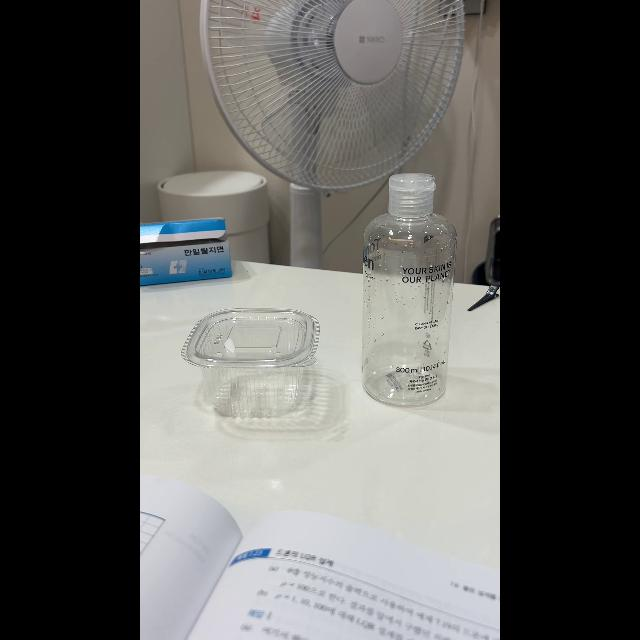clean: (362, 175, 458, 398), (184, 308, 322, 419)
